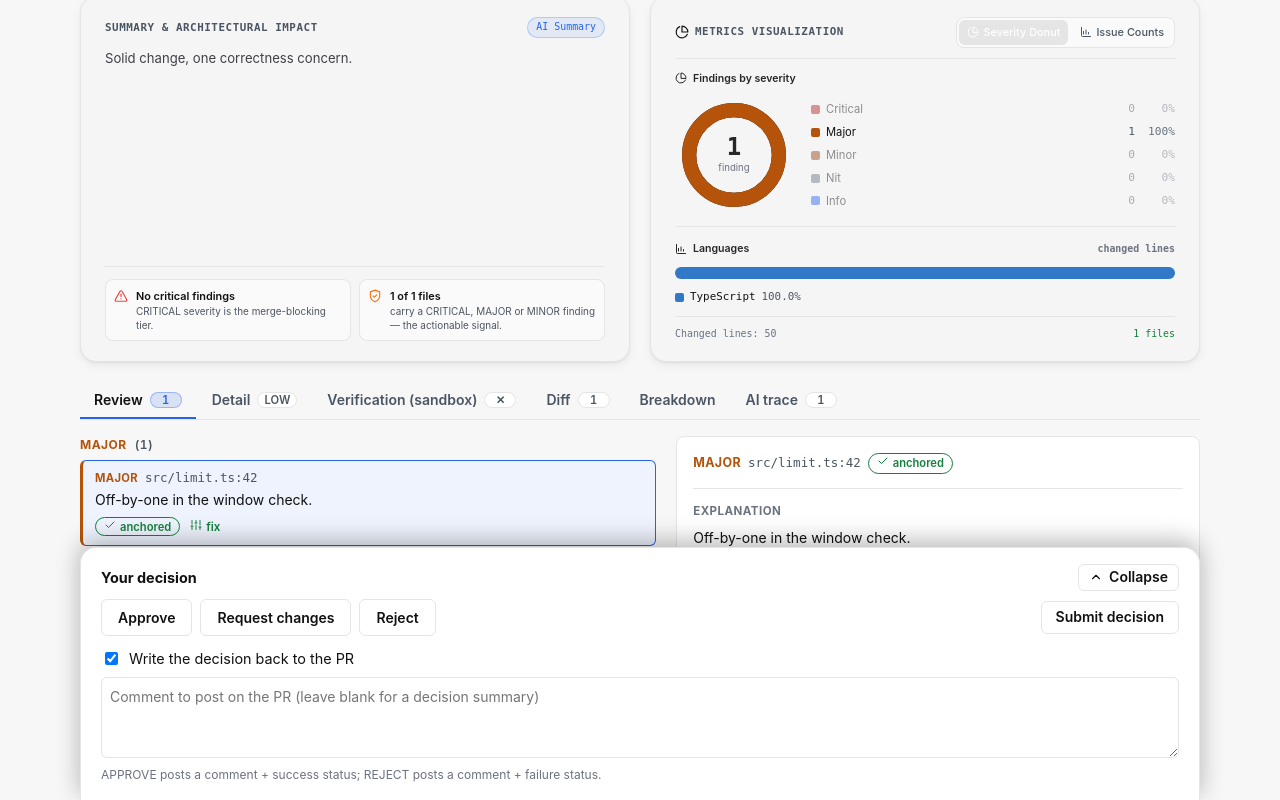
ReviewReportPage › shows an action banner on each of the Verification / Breakdown / AI-trace tabs
(page scrolled)
What coordinates should you click on to do the following:
click the tab "Verification (sandbox) ✕"
I would click on:
 (422, 401)
Its box is [313,382,530,419].
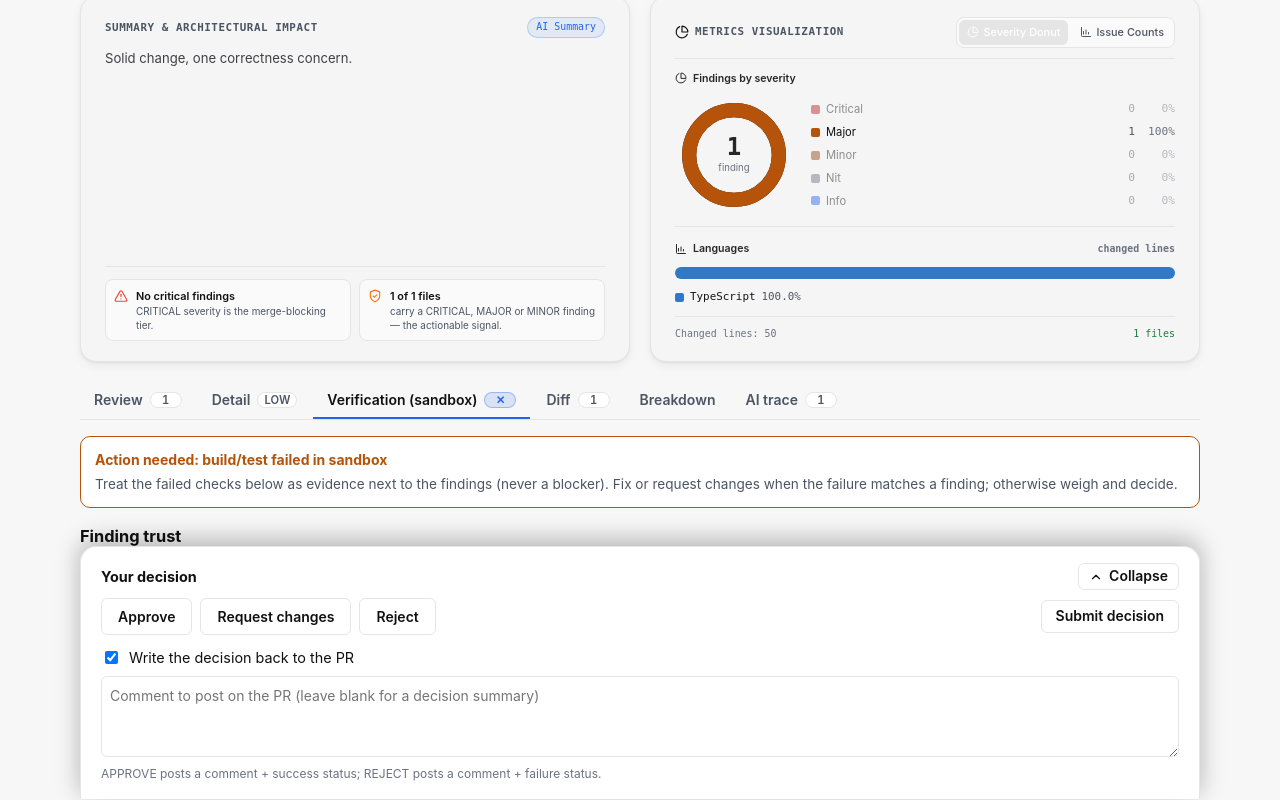
Check: the message with test id "verification-action" shows "Action needed", box [95,451,387,468]
Breakdown tab
What coordinates should you click on to do the following:
click the tab "Breakdown"
I would click on:
 (678, 401)
Its box is [626,382,730,419].
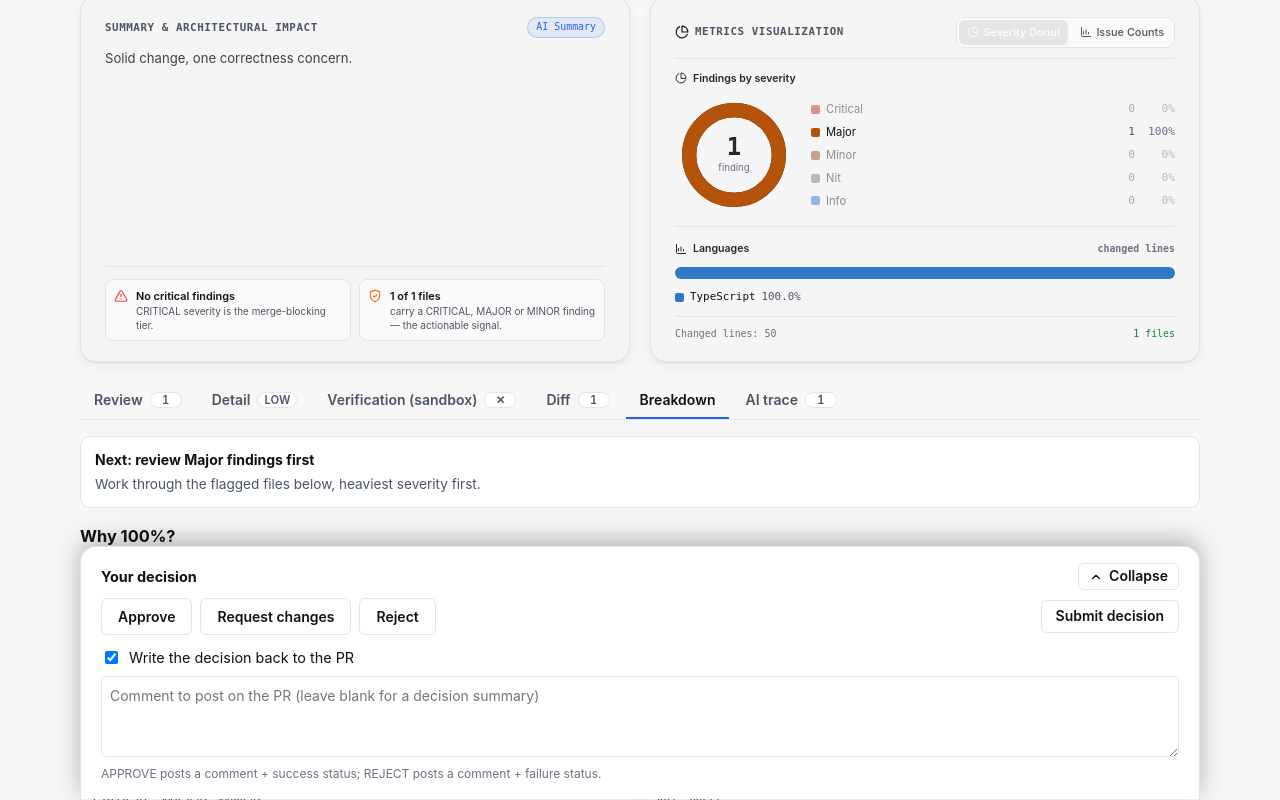
Check: the message with test id "breakdown-action" shows "Next:", box [95,451,314,468]
AI-trace tab
What coordinates should you click on to do the following:
click the tab "AI trace 1"
I would click on:
 (791, 401)
Its box is [732,382,851,419].
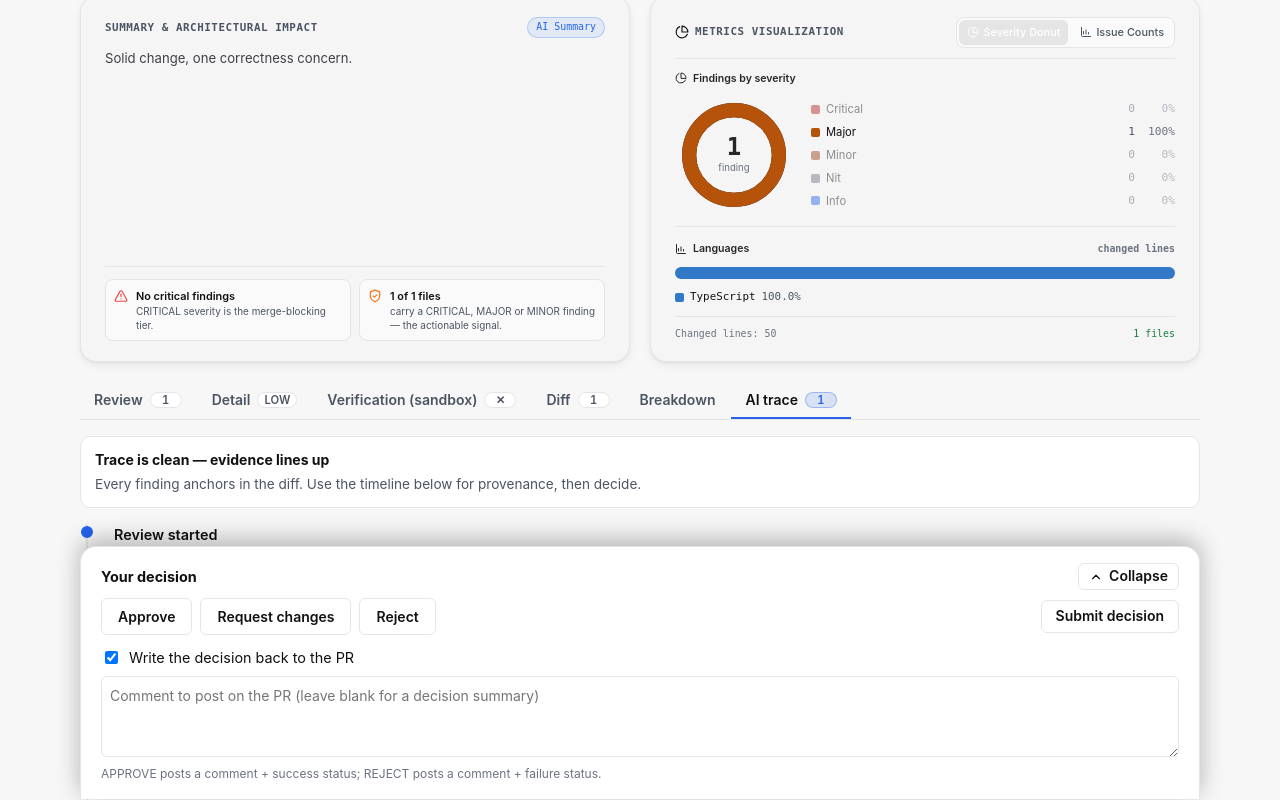
Check: the message with test id "trace-action" is shown, box [80,436,1200,508]
